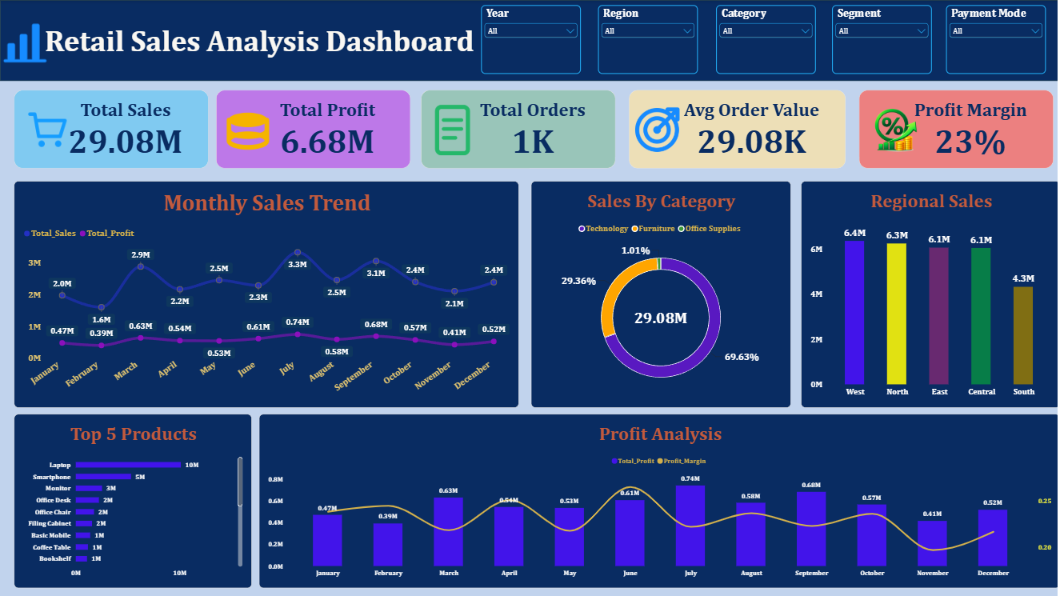

Layout of this report page (visuals, bound fields, positions):
{"tool":"powerbi","page":{"name":"Sales_Report","canvas":[1920,1080],"ordinal":0},"visuals":[{"type":"shape","box":[0,0,1920.1,146.6],"z":0},{"type":"image","box":[0,12.7,88.7,121.2],"z":1000},{"type":"slicer","fields":{"Values":["sales_data.Order Date.Variation.Date Hierarchy.Year"]},"box":[870.4,9,181,124.9],"z":2000},{"type":"slicer","fields":{"Values":["sales_data.Region"]},"box":[1082.2,9,181,124.9],"z":3000},{"type":"slicer","fields":{"Values":["sales_data.Category"]},"box":[1295.7,9,181,124.9],"z":4000},{"type":"slicer","fields":{"Values":["sales_data.Segment"]},"box":[1505.6,9,181,124.9],"z":5000},{"type":"slicer","fields":{"Values":["sales_data.Payment Mode"]},"box":[1711.9,9,181,124.9],"z":6000},{"type":"cardVisual","fields":{"Data":["sales_data.Total_Sales"]},"box":[25.3,162.9,352.9,143],"z":7000},{"type":"image","box":[45.2,175.5,85.1,119.4],"z":8000},{"type":"cardVisual","fields":{"Data":["sales_data.Total_Profit"]},"box":[390.9,162.9,352.9,143],"z":9000},{"type":"cardVisual","fields":{"Data":["sales_data.Total_Orders"]},"box":[761.9,162.9,352.9,143],"z":10000},{"type":"cardVisual","fields":{"Data":["sales_data.Average_Order_Value"]},"box":[1138.3,162.9,392.7,143],"z":11000},{"type":"cardVisual","fields":{"Data":["sales_data.Profit_Margin"]},"box":[1554.5,162.9,352.9,143],"z":12000},{"type":"image","box":[390.9,146.6,132.1,195.4],"z":13000},{"type":"image","box":[767.3,155.6,103.2,157.4],"z":14000},{"type":"image","box":[1138.3,175.5,101.3,119.4],"z":15000},{"type":"image","box":[1531,193.6,175.5,83.2],"z":16000},{"type":"lineChart","title":"Monthly Sales Trend","fields":{"Category":["sales_data.Order Date.Variation.Date Hierarchy.Month"],"Y":["sales_data.Total_Sales","sales_data.Total_Profit"]},"box":[25.3,327.5,913.9,410.8],"z":17000},{"type":"donutChart","title":"Sales By Category","fields":{"Category":["sales_data.Category"],"Y":["sales_data.Total_Sales"]},"box":[960.9,327.5,470.5,410.8],"z":18000},{"type":"columnChart","title":"Regional Sales","fields":{"Category":["sales_data.Region"],"Y":["sales_data.Total_Sales"]},"box":[1449.5,327.5,470.5,410.8],"z":19000},{"type":"clusteredBarChart","title":"Top 5 Products","fields":{"Category":["sales_data.Product"],"Y":["sales_data.Total_Sales"]},"box":[25.3,749.2,430.7,314.9],"z":20000},{"type":"lineClusteredColumnComboChart","title":"Profit Analysis","fields":{"Category":["sales_data.Order Date.Variation.Date Hierarchy.Month"],"Y":["sales_data.Total_Profit"],"Y2":["sales_data.Profit_Margin"]},"box":[468.7,749.2,1451.3,314.9],"z":21000}]}

Visuals, with their boxes in screenshot pixels (x1, y1, x2, y2), scaled from the page's 1920x1080 canvas onto the 1058x596 screenshot:
shape: Rect(0, 0, 1057, 81)
image: Rect(0, 7, 49, 74)
slicer - sales_data.Order Date.Variation.Date Hierarchy.Year: Rect(480, 5, 579, 74)
slicer - sales_data.Region: Rect(596, 5, 696, 74)
slicer - sales_data.Category: Rect(714, 5, 814, 74)
slicer - sales_data.Segment: Rect(830, 5, 929, 74)
slicer - sales_data.Payment Mode: Rect(943, 5, 1043, 74)
cardVisual - sales_data.Total_Sales: Rect(14, 90, 208, 169)
image: Rect(25, 97, 72, 163)
cardVisual - sales_data.Total_Profit: Rect(215, 90, 410, 169)
cardVisual - sales_data.Total_Orders: Rect(420, 90, 614, 169)
cardVisual - sales_data.Average_Order_Value: Rect(627, 90, 844, 169)
cardVisual - sales_data.Profit_Margin: Rect(857, 90, 1051, 169)
image: Rect(215, 81, 288, 189)
image: Rect(423, 86, 480, 173)
image: Rect(627, 97, 683, 163)
image: Rect(844, 107, 940, 153)
"Monthly Sales Trend" lineChart: Rect(14, 181, 518, 407)
"Sales By Category" donutChart: Rect(529, 181, 789, 407)
"Regional Sales" columnChart: Rect(799, 181, 1057, 407)
"Top 5 Products" clusteredBarChart: Rect(14, 413, 251, 587)
"Profit Analysis" lineClusteredColumnComboChart: Rect(258, 413, 1057, 587)
